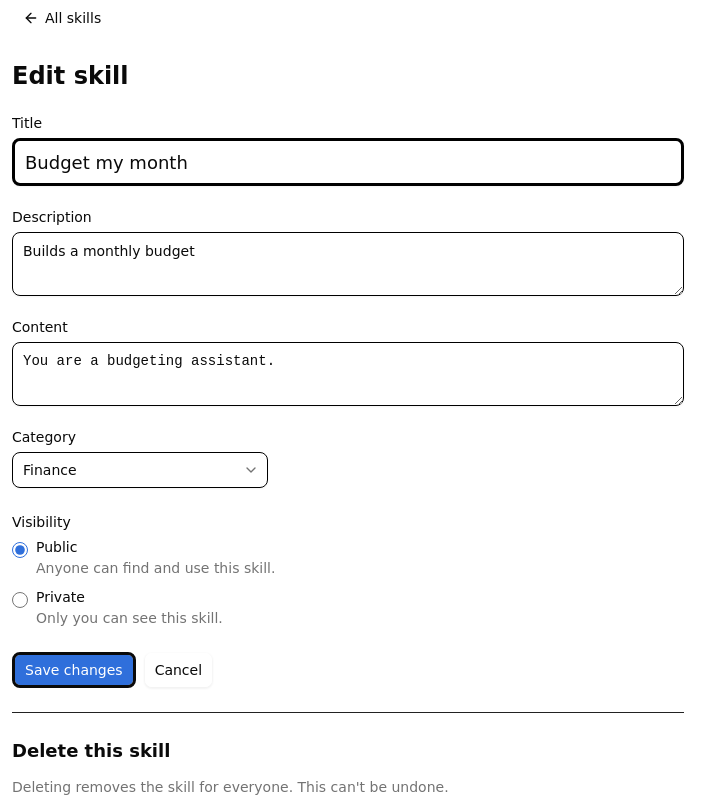
Test: Edit skill page › explains when the skill was deleted before saving (404)
This screenshot has width=701, height=810.
Replace the text in the field labelled "Title" with "Plan my month": (348, 162) [12,138,684,186]
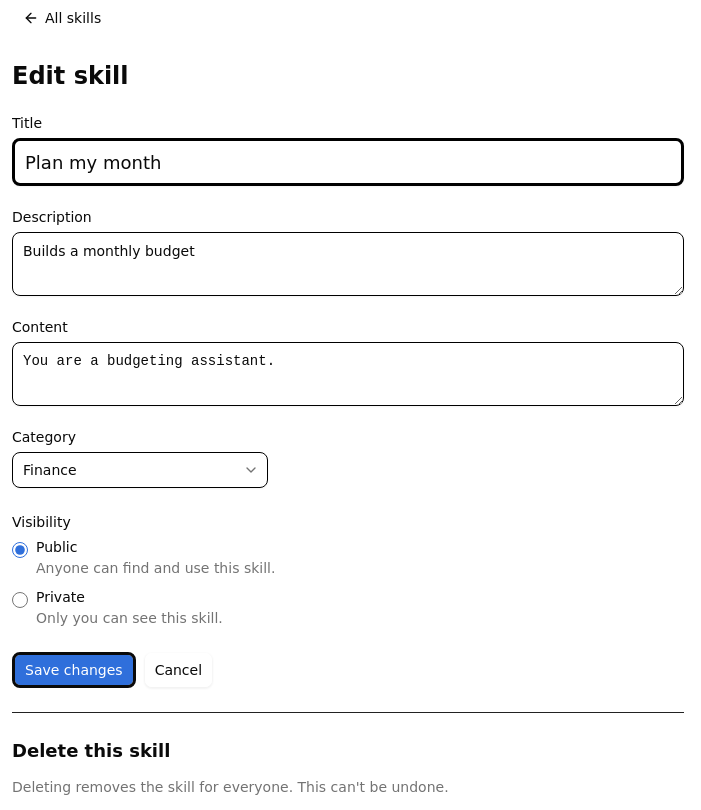
Click the button "Save changes": (74, 670) [12,652,136,688]
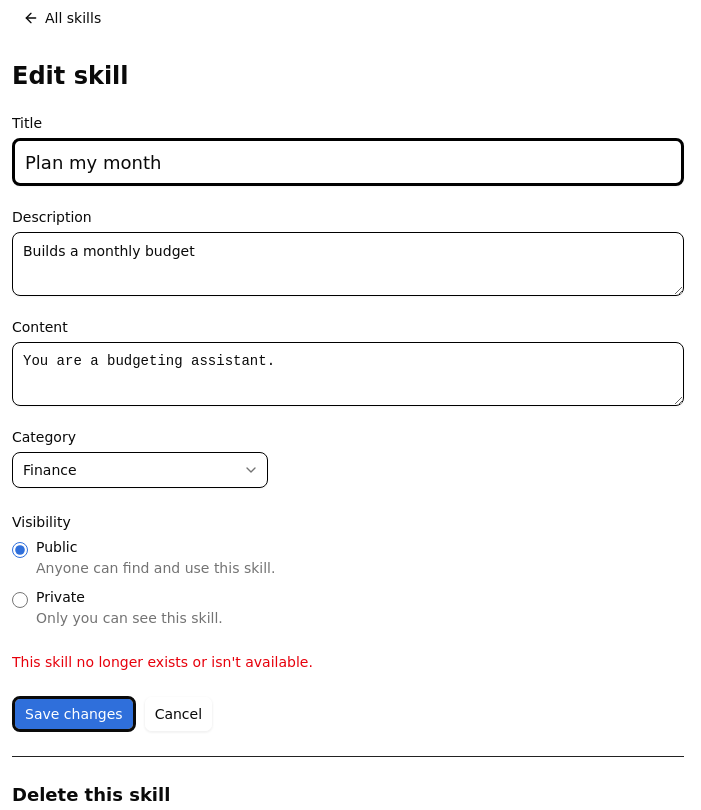
Check: the message reads "This skill no longer exists or isn't available.", box [12,654,313,670]
